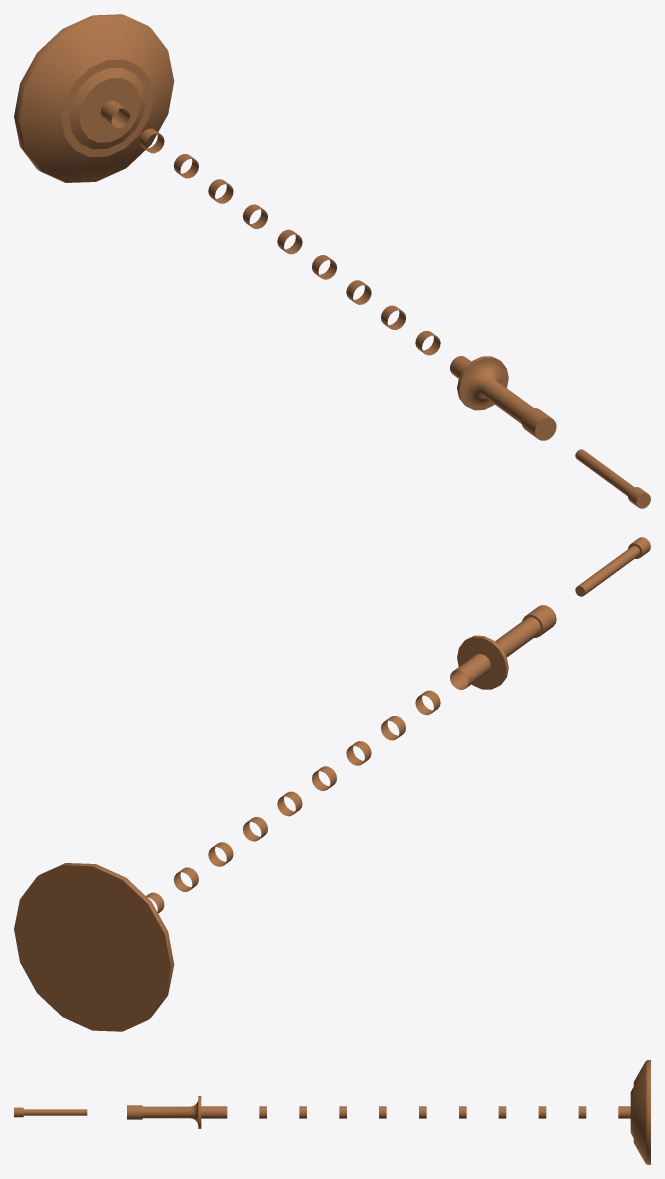
The model's file is MeshFloorLamp_19_0_GeomSubset_0.obj.
3 views of the same model, one above another, from view 1: azimuth 30°, elevation 25°; view 2: azimuth 150°, elevation 25°; view 3: azimuth 270°, elevation 25° (orthographic). The views are drawn at different scales.
Visible parts, largest first — view 1: MeshFloorLamp_19_0_GeomSubset_0; view 2: MeshFloorLamp_19_0_GeomSubset_0; view 3: MeshFloorLamp_19_0_GeomSubset_0.
Boxes of the visible parts, box(x1,y1,x2,y2) form: MeshFloorLamp_19_0_GeomSubset_0: box(14, 14, 650, 508); MeshFloorLamp_19_0_GeomSubset_0: box(14, 537, 650, 1031); MeshFloorLamp_19_0_GeomSubset_0: box(14, 1060, 650, 1164).
Bounding box in the file's own units: 0.292 × 0.292 × 1.78.
